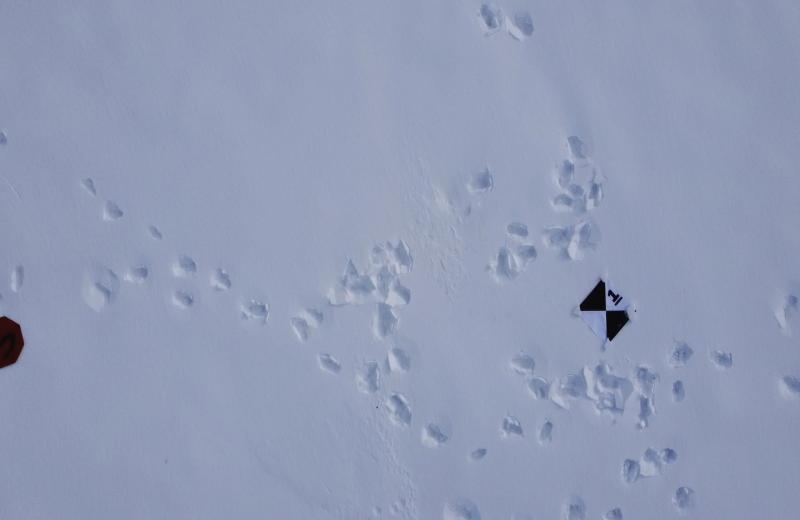Octagon: (0, 314, 25, 371)
